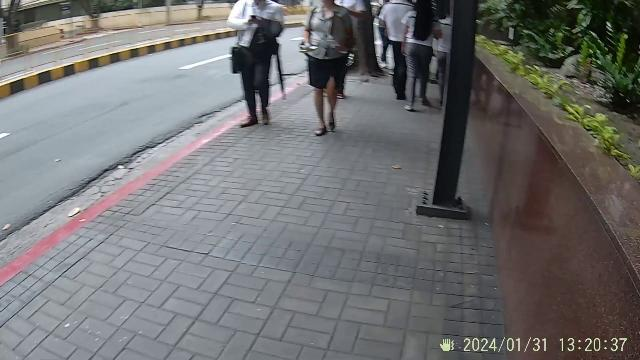utility_post: (432, 0, 476, 220)
